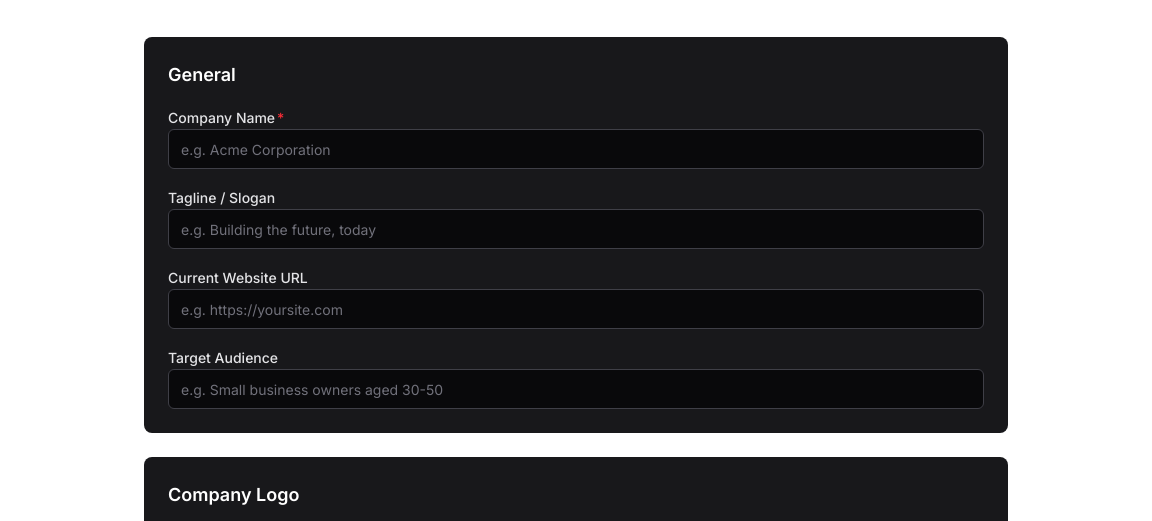
<SetupExperience> › Sprint 14: forwards the x-ai-source header into PreviewPanel as the [fixture] badge
The width and height of the screenshot is (1152, 521).
Step 1. Type "Aurora Property Group" into the field labelled "Company Name*" → point(576, 149), box top-left (168, 129), bottom-right (984, 169)
(page scrolled)
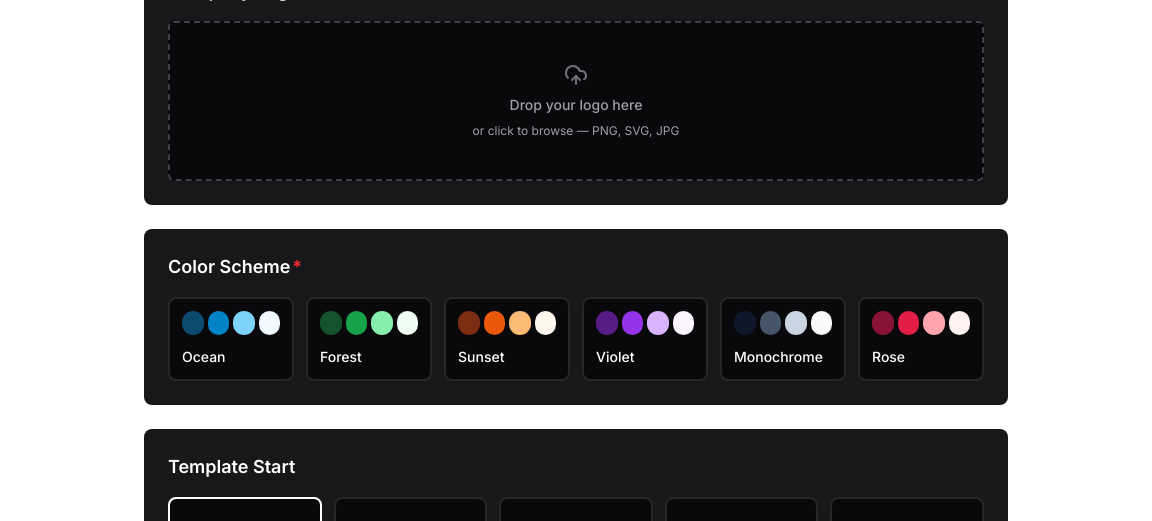
Step 2. Click the text "Ocean" → point(204, 356), box top-left (182, 348), bottom-right (226, 365)
(page scrolled)
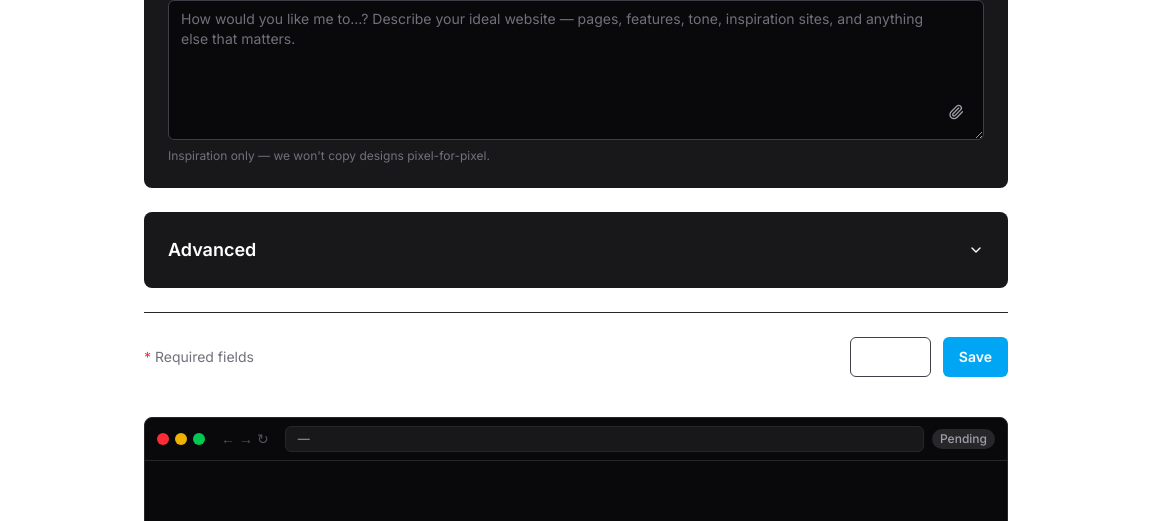
Now the button with test id "setup-form-save" is enabled
Step 3. Click the button with test id "setup-form-save" → point(975, 357), box top-left (943, 337), bottom-right (1008, 377)
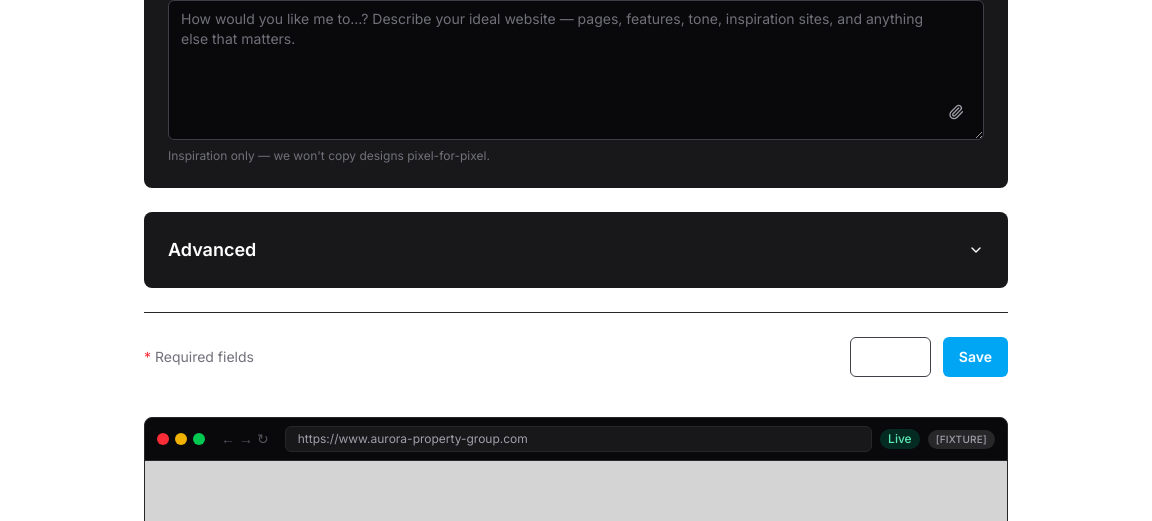
Now the text with test id "preview-panel-ai-source" reads "[fixture]", box top-left (940, 432), bottom-right (983, 444)
